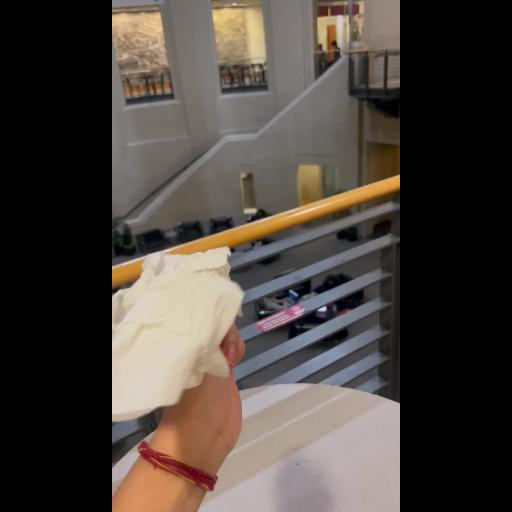napkin: (112, 246, 246, 426)
